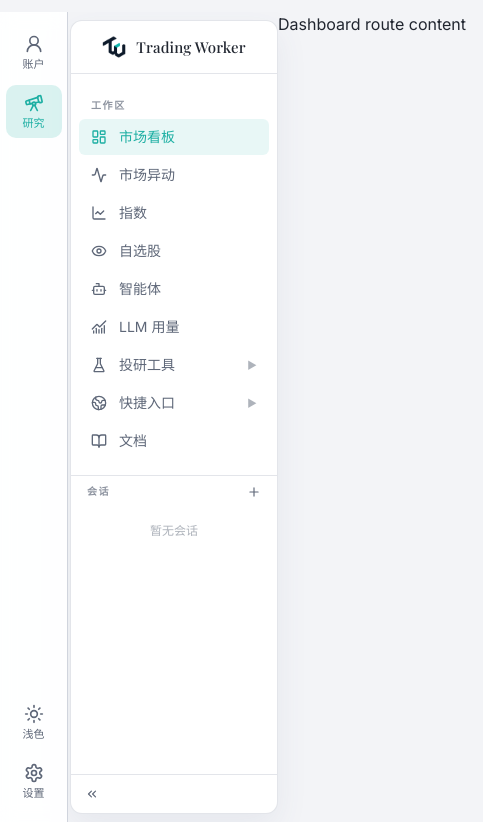
Test case: Layout sidebar › renders external shortcut buttons when the group is expanded
The width and height of the screenshot is (483, 822).
Step 1. Click the button "快捷入口 ▶" → {"x": 174, "y": 403}, box [79,385,269,421]
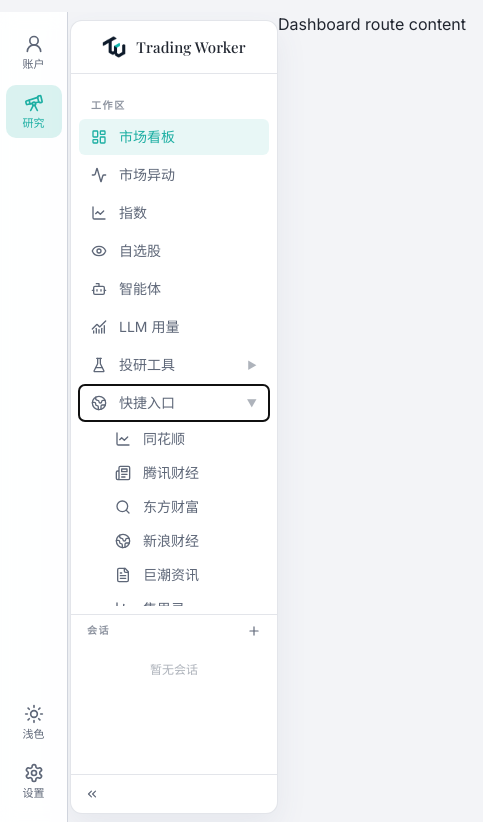
Check: the button "同花顺" is shown, box [103,423,269,455]
Check: the button "腾讯财经" is shown, box [103,457,269,489]
Check: the button "东方财富" is shown, box [103,491,269,523]
